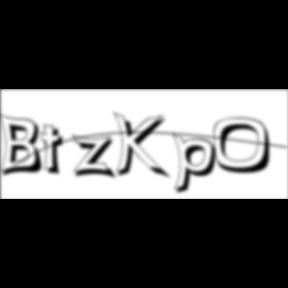B: (0, 111, 48, 179)
K: (114, 110, 172, 182)
O: (214, 117, 278, 176)
p: (173, 132, 223, 198)
t: (40, 124, 72, 179)
z: (72, 134, 120, 182)
